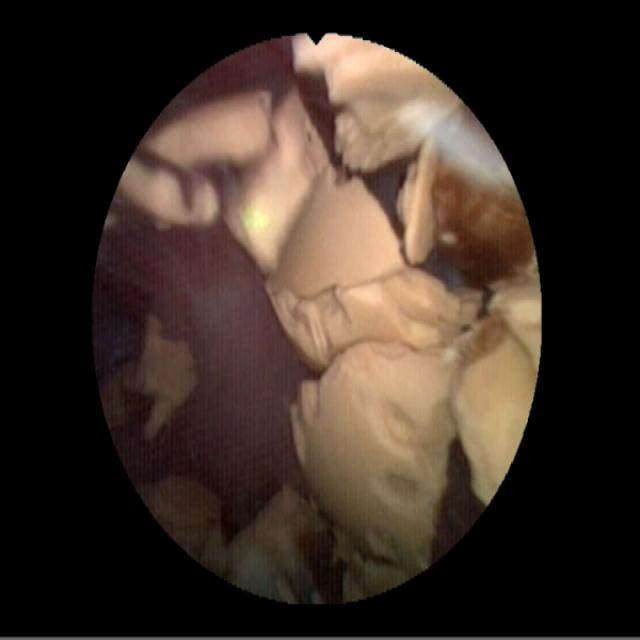stone: (229, 90, 538, 596), (294, 37, 529, 285), (142, 478, 327, 599), (121, 89, 273, 224), (105, 314, 196, 435)
tissue: (99, 234, 290, 511)
